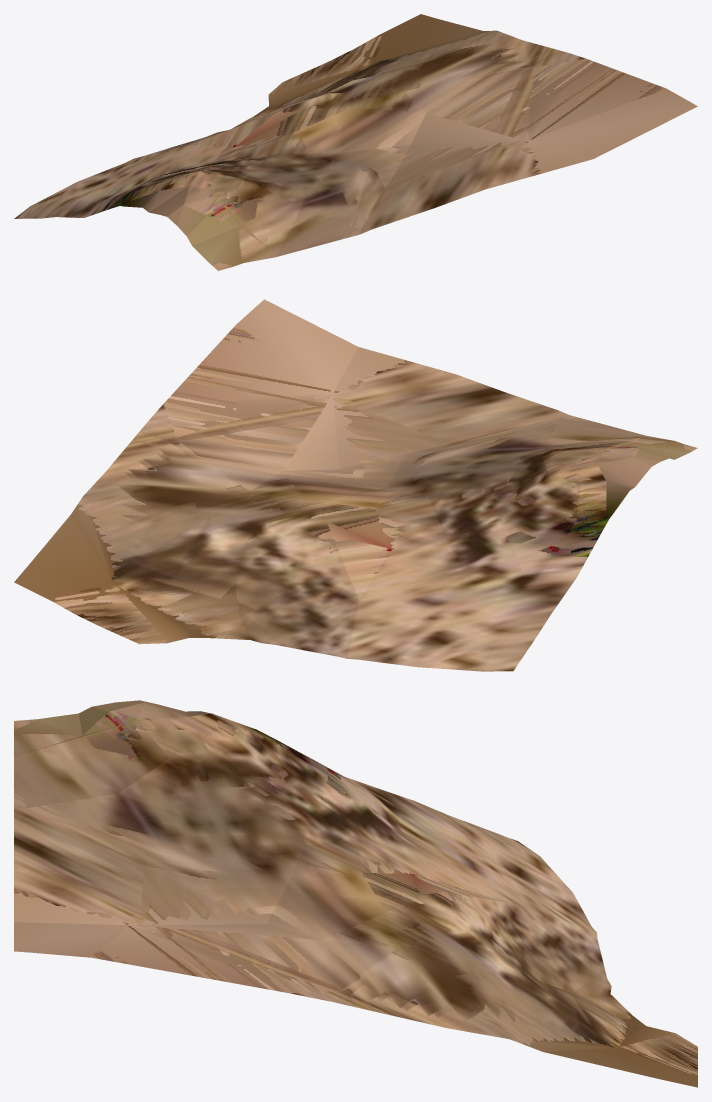
The picture shows the model from 3 angles, top to bottom: view 1: azimuth 30°, elevation 25°; view 2: azimuth 150°, elevation 25°; view 3: azimuth 270°, elevation 25°; orthographic projection. The views are drawn at different scales.
Size of the model in its own units: 1.04 by 0.3015 by 1.04.
2 materials, 2 textured.
